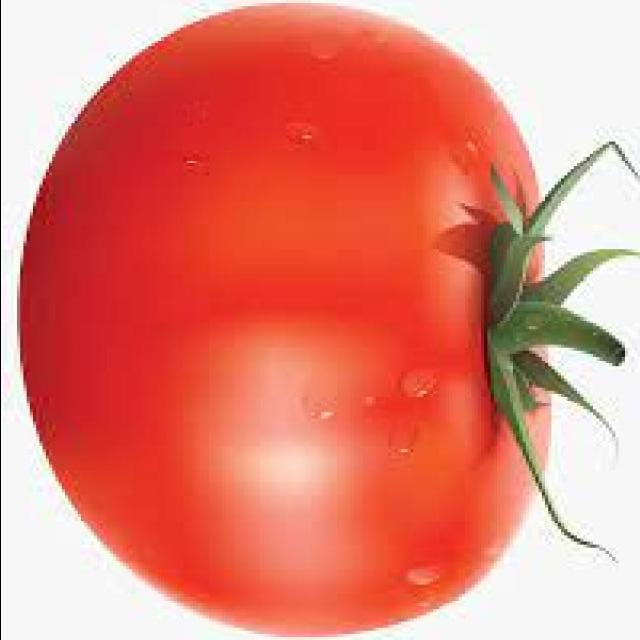Healthy: (17, 1, 597, 640)
